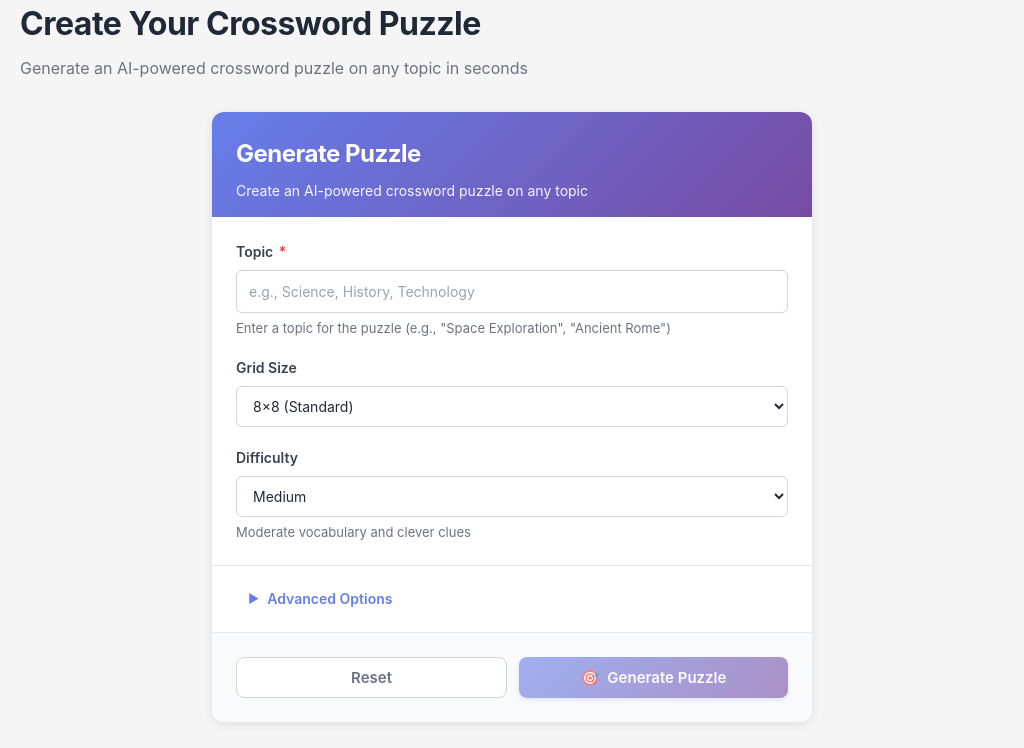
PuzzleGenerator Component › Error Handling › should show error state in generation progress
In the field with test id "topic-input": (512, 292) [236,270,788,313], type "Science"
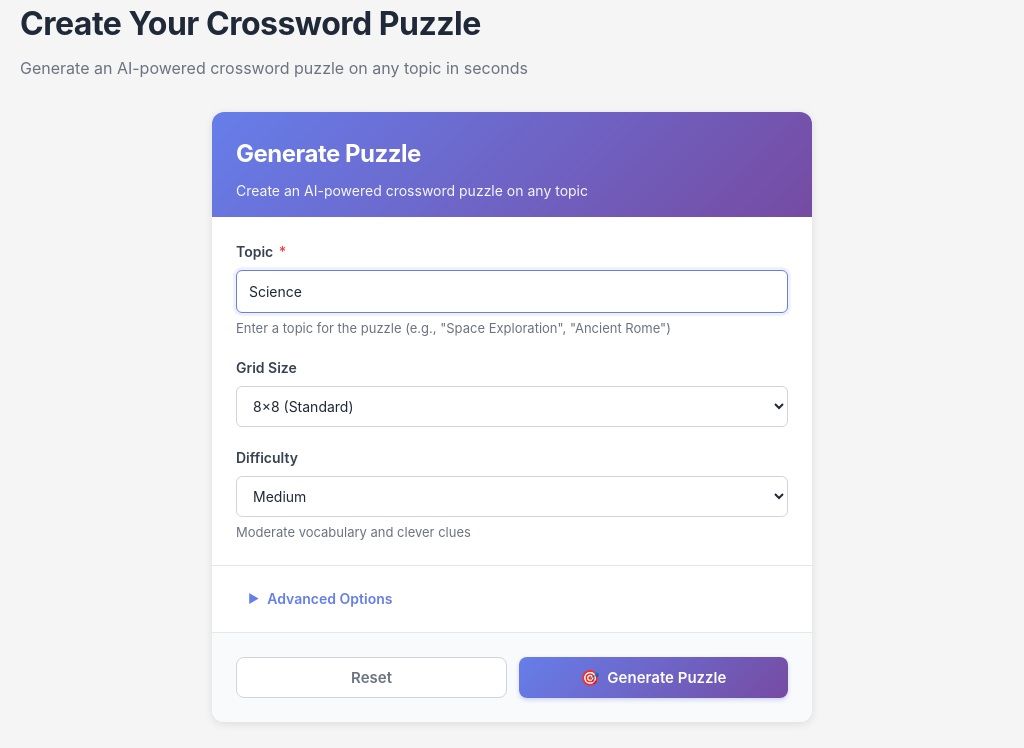
Click the button with test id "submit-button": (654, 678) [519,657,788,698]
(page scrolled)
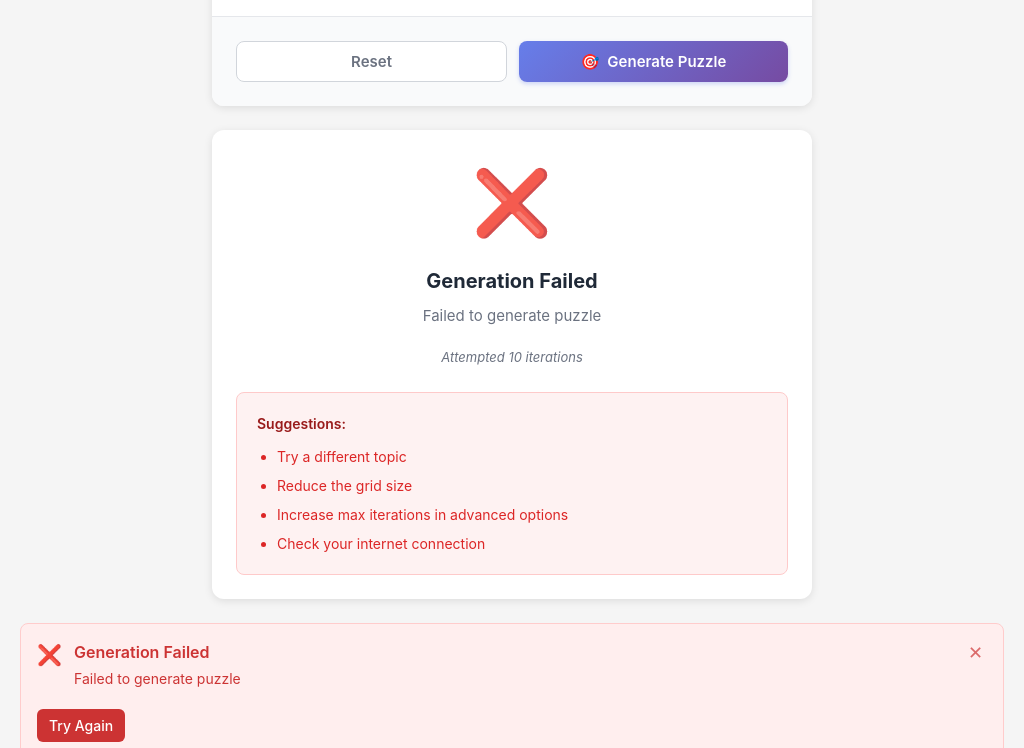
Expected: the element with test id "error-state" is shown, [236,154,788,575]
